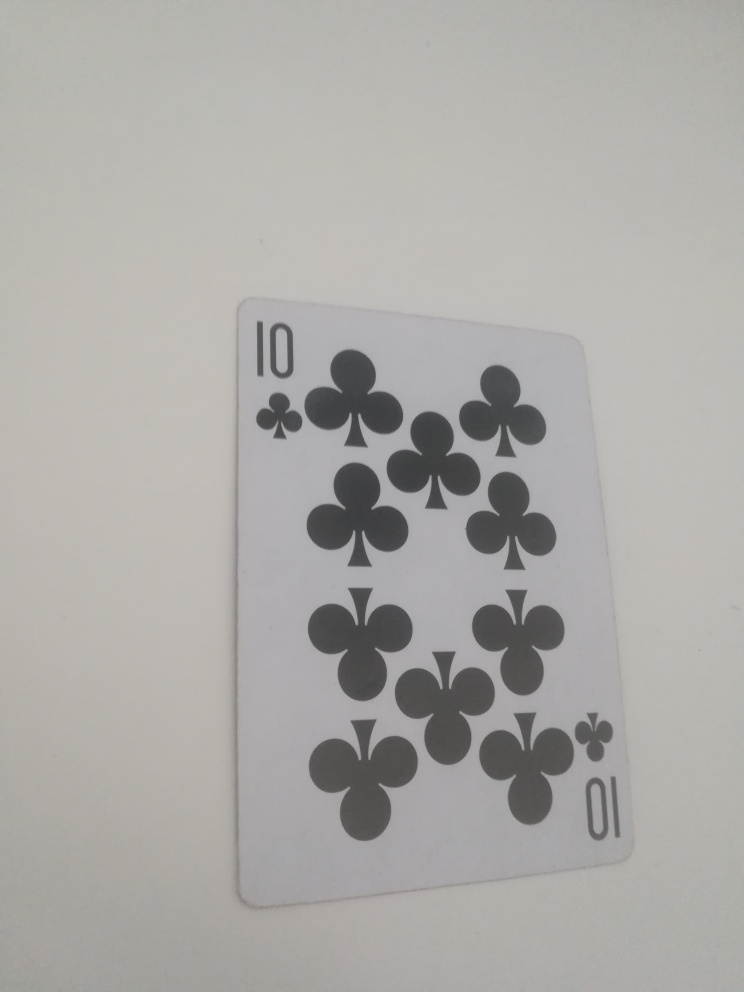10C: (250, 313, 307, 441)
